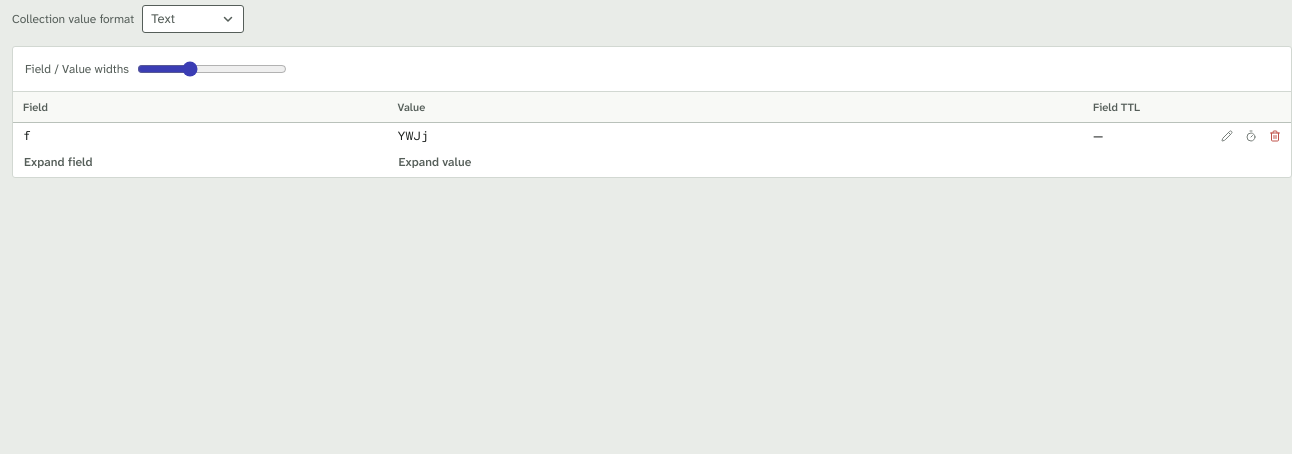
Scenario: inline editors and type conflicts › a row editor whose key was deleted offers Reload only
The image size is (1292, 454).
Click the button named "Edit hash field f".
click(1227, 136)  # box [1215,124,1239,148]
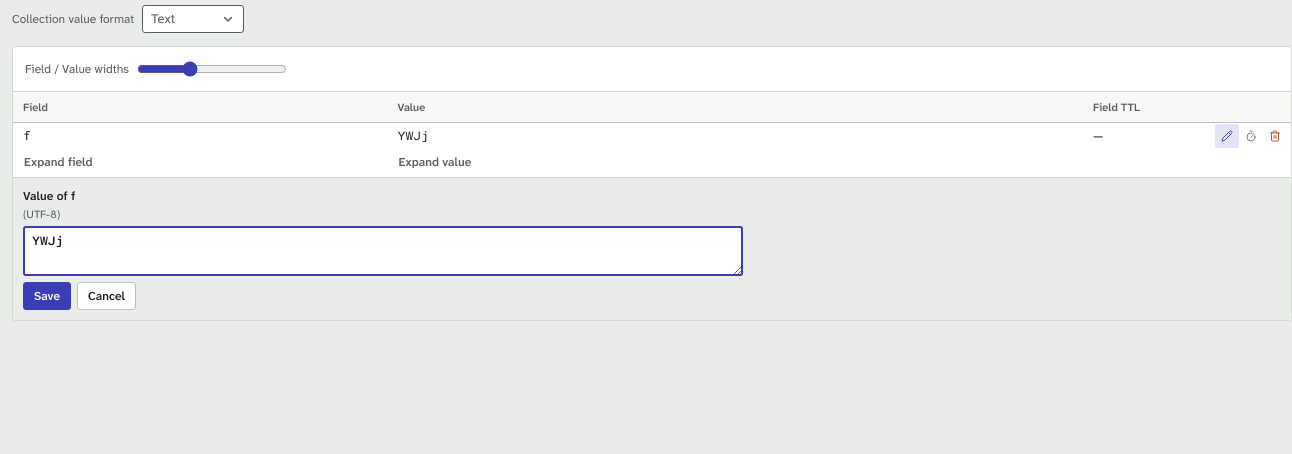
Click the button "Save".
click(47, 296)  # box [23,282,71,310]
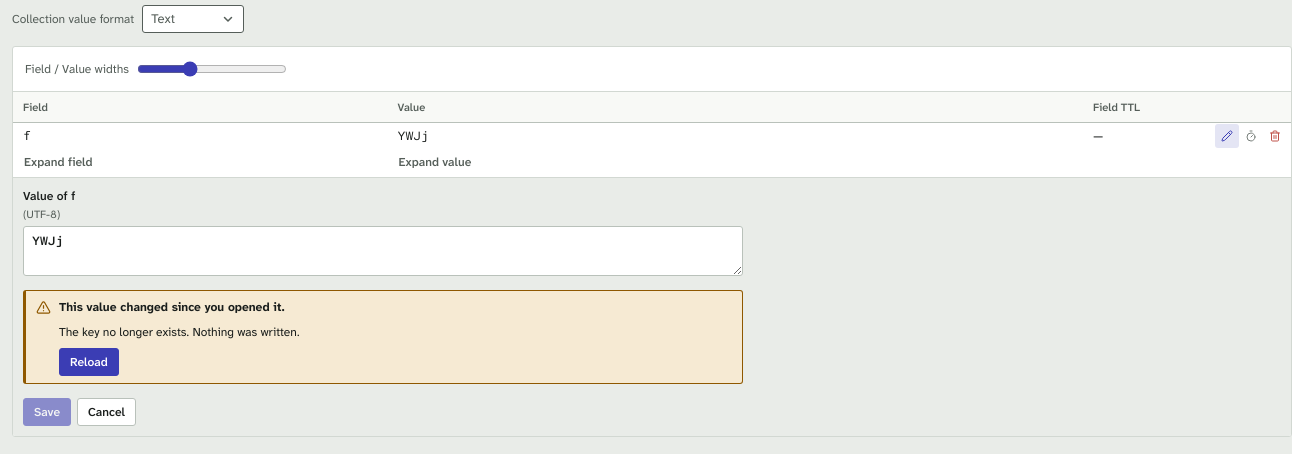
Now the message with test id "edit-conflict" shows "The key no longer exists.", box [59,324,189,340]
Now the button "Save" is disabled, box [23,398,71,426]
